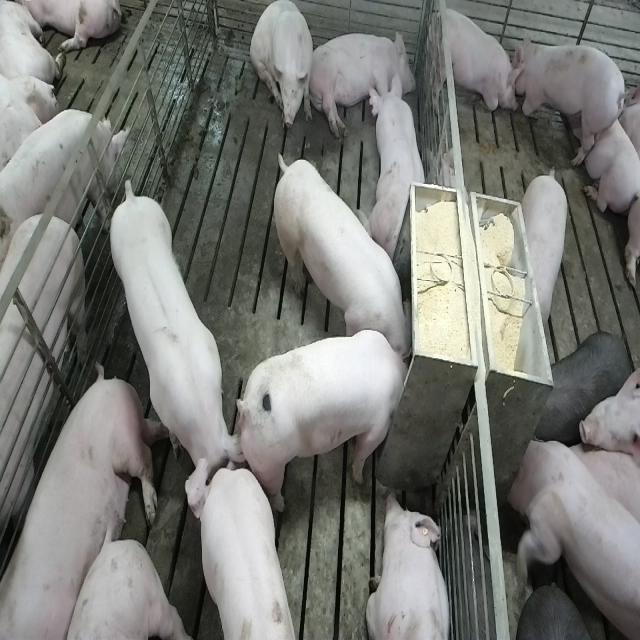Feeding: (243, 328, 419, 514), (269, 144, 411, 360)
Lateral_lying: (4, 366, 160, 640), (307, 28, 417, 140)
Sitting: (422, 0, 514, 124), (251, 2, 315, 136)
Standing: (107, 177, 245, 517), (0, 207, 89, 621), (507, 435, 638, 640), (190, 464, 301, 640), (0, 104, 124, 255), (509, 27, 626, 167), (536, 329, 630, 444), (522, 162, 572, 322), (517, 579, 603, 638)
Sternal_lying: (365, 488, 453, 640), (364, 76, 430, 263), (569, 82, 639, 212)
